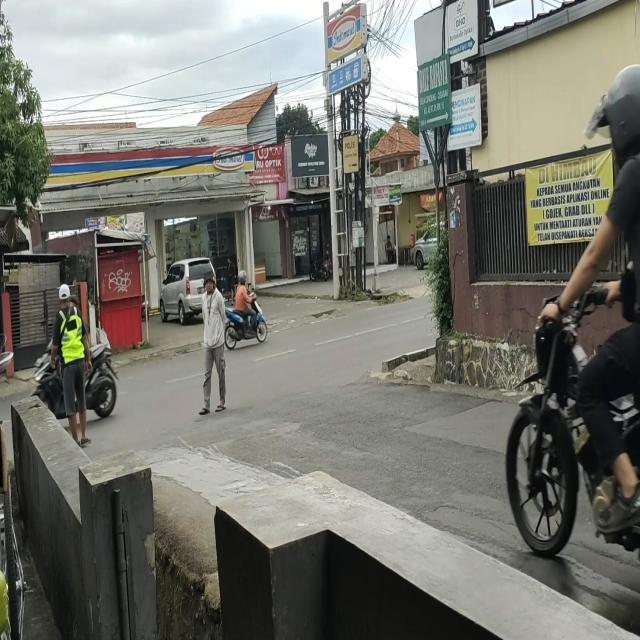helmet: (606, 76, 640, 150), (238, 271, 247, 284)
